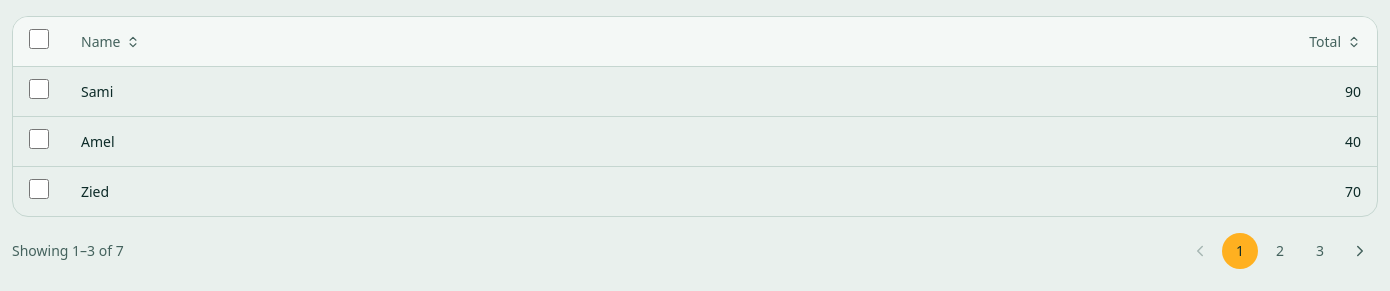
Test: data table › moves between pages
The width and height of the screenshot is (1390, 291).
Check: the text "Showing 1–3 of 7" is shown, box top-left (12, 241), bottom-right (124, 261)
Click the button named "Next page": (1360, 251) top-left (1342, 233), bottom-right (1378, 269)
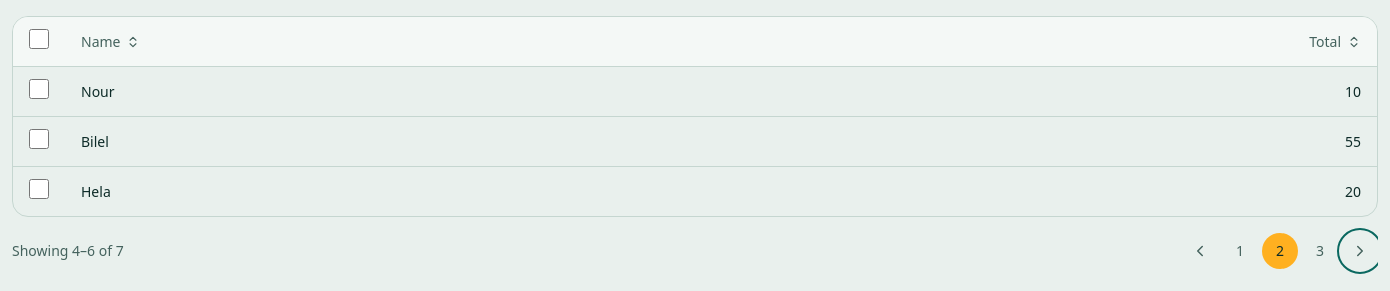
Check: the text "Showing 4–6 of 7" is shown, box top-left (12, 241), bottom-right (124, 261)
Check: the row "Nour 10" is shown, box top-left (13, 66), bottom-right (1377, 116)
